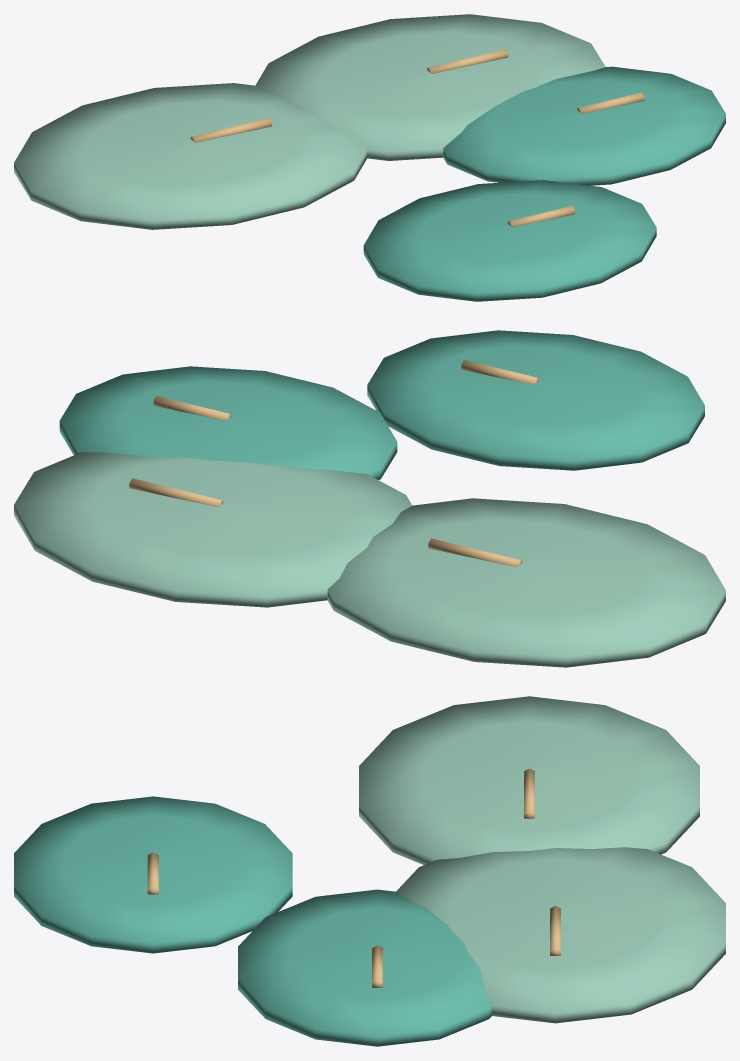
Rendered from pond_lily_pads.glb.
The picture shows the model from 3 angles, top to bottom: view 1: azimuth 30°, elevation 25°; view 2: azimuth 150°, elevation 25°; view 3: azimuth 270°, elevation 25°; orthographic projection. The views are drawn at different scales.
Parts seen in each view (by area): view 1: POND_lily_pads_lilypad_1, POND_lily_pads_lilypad_3, POND_lily_pads_lilypad_2, POND_lily_pads_lilypad_0, POND_lily_pads_vein_3, POND_lily_pads_vein_1, POND_lily_pads_vein_2, POND_lily_pads_vein_0; view 2: POND_lily_pads_lilypad_1, POND_lily_pads_lilypad_3, POND_lily_pads_lilypad_2, POND_lily_pads_lilypad_0, POND_lily_pads_vein_3, POND_lily_pads_vein_1, POND_lily_pads_vein_0, POND_lily_pads_vein_2; view 3: POND_lily_pads_lilypad_1, POND_lily_pads_lilypad_3, POND_lily_pads_lilypad_2, POND_lily_pads_lilypad_0.
Boxes of the visible parts, bbox=[...] form: POND_lily_pads_lilypad_1: bbox=[14, 83, 367, 229]; POND_lily_pads_lilypad_3: bbox=[255, 14, 605, 160]; POND_lily_pads_lilypad_2: bbox=[363, 180, 656, 301]; POND_lily_pads_lilypad_0: bbox=[443, 66, 725, 185]; POND_lily_pads_vein_3: bbox=[427, 49, 508, 73]; POND_lily_pads_vein_1: bbox=[190, 117, 271, 142]; POND_lily_pads_vein_2: bbox=[507, 205, 574, 227]; POND_lily_pads_vein_0: bbox=[577, 92, 644, 113]; POND_lily_pads_lilypad_1: bbox=[327, 498, 725, 667]; POND_lily_pads_lilypad_3: bbox=[14, 452, 412, 607]; POND_lily_pads_lilypad_2: bbox=[367, 330, 704, 470]; POND_lily_pads_lilypad_0: bbox=[59, 366, 397, 479]; POND_lily_pads_vein_3: bbox=[129, 478, 223, 507]; POND_lily_pads_vein_1: bbox=[428, 538, 522, 567]; POND_lily_pads_vein_0: bbox=[153, 396, 231, 420]; POND_lily_pads_vein_2: bbox=[461, 360, 538, 384]; POND_lily_pads_lilypad_1: bbox=[359, 696, 699, 864]; POND_lily_pads_lilypad_3: bbox=[396, 847, 725, 1023]; POND_lily_pads_lilypad_2: bbox=[14, 796, 292, 953]; POND_lily_pads_lilypad_0: bbox=[238, 889, 491, 1046].
Bounding box in the file's own units: 1.5 × 0.083 × 1.33.
